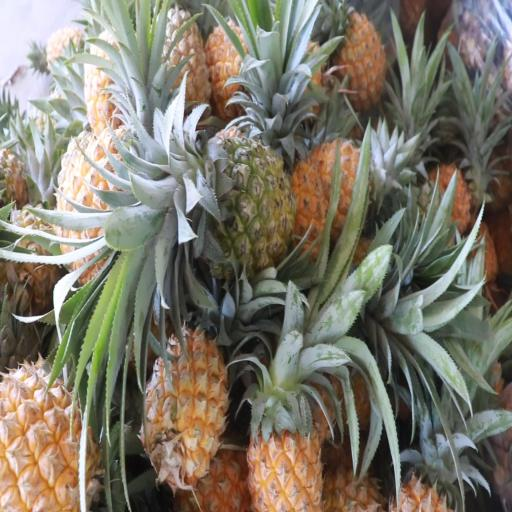Pineapple - v8 v1: (53, 127, 171, 283), (0, 361, 117, 512), (248, 327, 330, 511), (144, 320, 230, 494), (327, 12, 395, 115)
